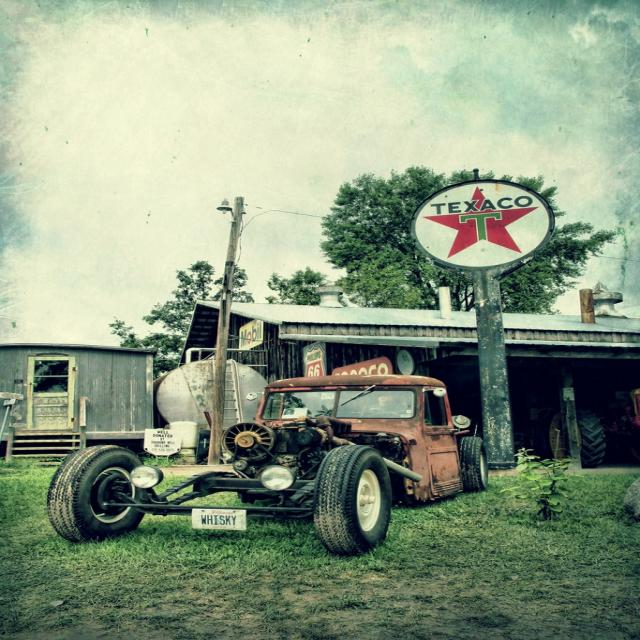texaco: (412, 182, 554, 269)
